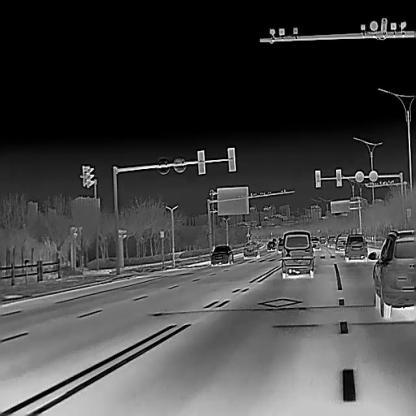car: (368, 228, 416, 318), (280, 228, 316, 279), (342, 232, 367, 260), (210, 244, 234, 265), (243, 241, 260, 258), (335, 234, 350, 250), (309, 235, 321, 249), (327, 234, 336, 247), (266, 239, 276, 249), (277, 238, 284, 251), (319, 235, 326, 243), (272, 237, 276, 242)
